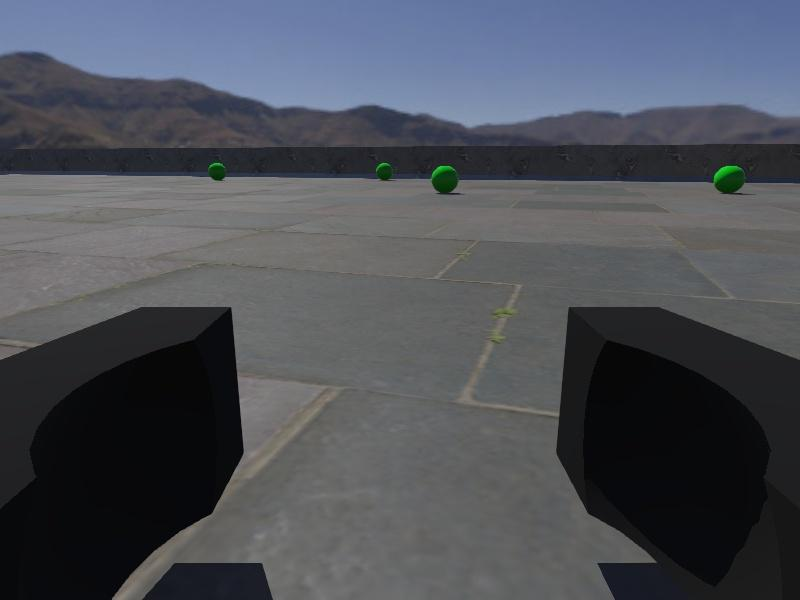green ball: (712, 165, 746, 194), (431, 165, 459, 195), (207, 162, 227, 182), (375, 162, 395, 182)
